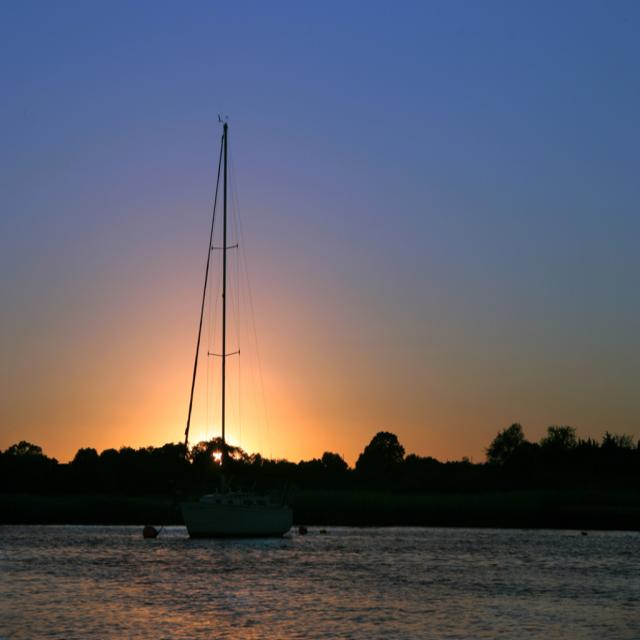Boat: (164, 107, 285, 552)
